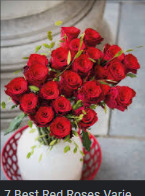RedRose: (76, 80, 108, 108), (23, 53, 48, 86), (5, 75, 26, 107), (74, 105, 98, 131), (48, 47, 73, 70), (50, 116, 72, 140), (33, 103, 55, 127), (122, 52, 142, 77), (106, 60, 127, 83), (72, 55, 95, 76), (59, 72, 81, 93), (115, 86, 135, 109), (53, 96, 73, 117), (20, 93, 39, 115), (41, 80, 60, 102), (60, 25, 79, 46), (84, 28, 103, 46), (84, 47, 104, 64), (106, 43, 124, 61)
